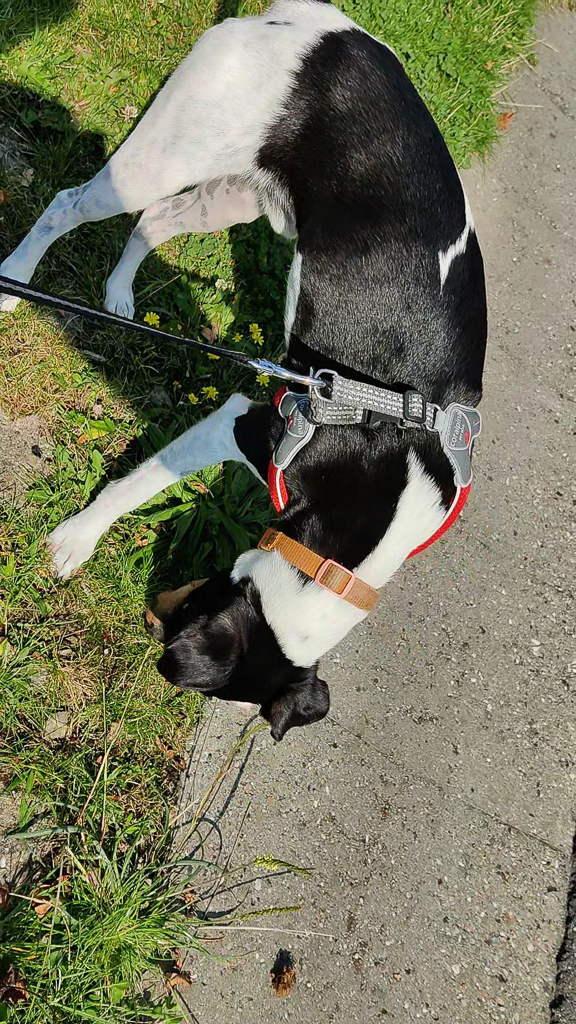Dog: (0, 0, 508, 750)
